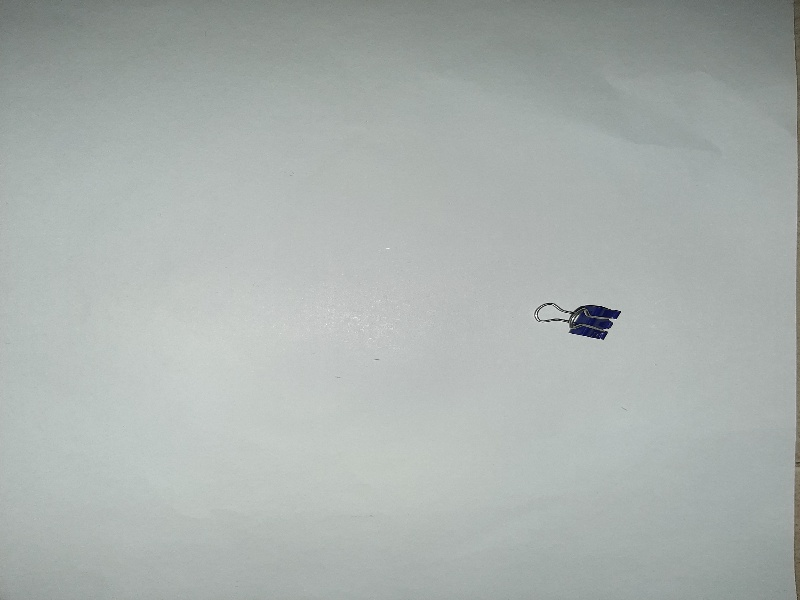Small Paperclip: (532, 289, 621, 347)
